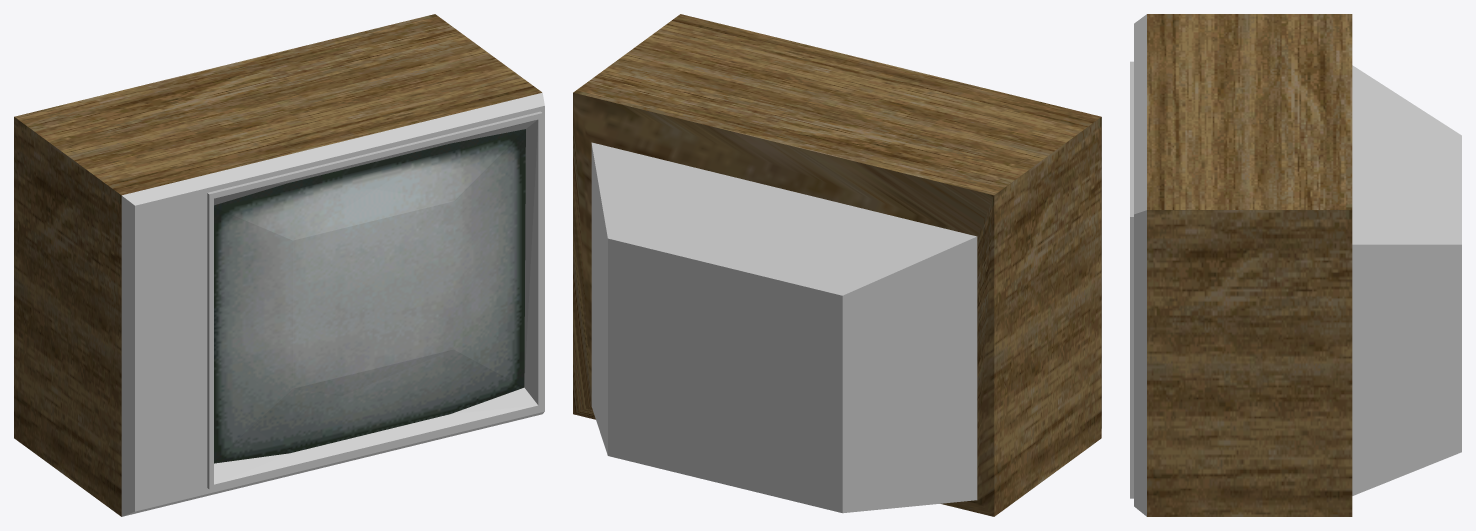
The model's file is dyn_tv.obj.
The picture shows the model from 3 angles, left to right: view 1: azimuth 30°, elevation 25°; view 2: azimuth 150°, elevation 25°; view 3: azimuth 270°, elevation 25°; orthographic projection. The views are drawn at different scales.
Visible parts, largest first — view 1: DYN_TV; view 2: DYN_TV; view 3: DYN_TV.
Part boxes in pixels (left/top/right/bottom): DYN_TV: left=14, top=14, right=544, bottom=516; DYN_TV: left=573, top=14, right=1101, bottom=516; DYN_TV: left=1130, top=14, right=1461, bottom=516.
Bounding box in the file's own units: 0.7086 × 0.5171 × 0.5065.
